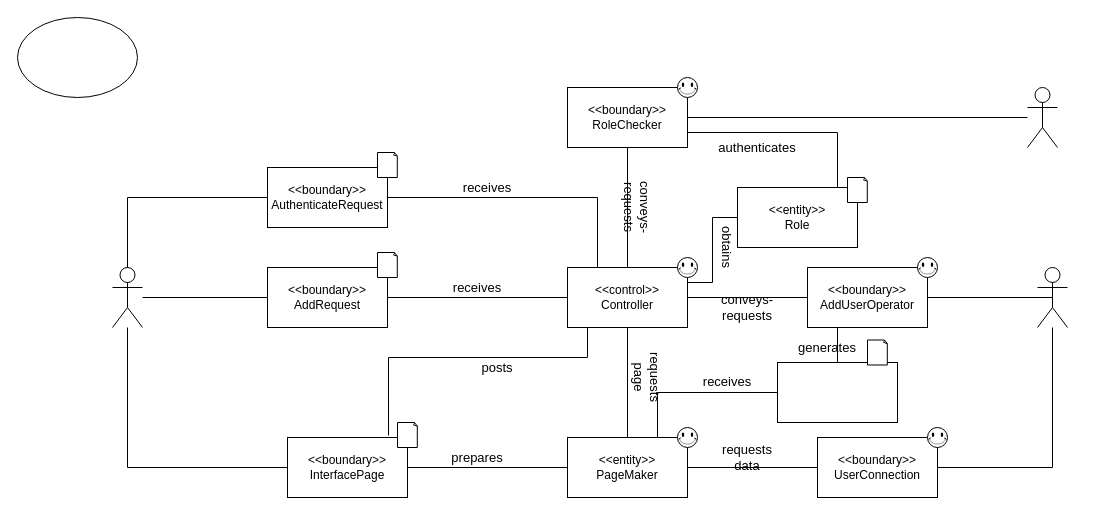
Some shapes in this 1095 by 515 pixel diagram are drawn without their labels. The centre of each missing label's shape, as x and y in pixels:
<<entity>> RedirectRequest: the point at 837,392
Authenticator: the point at 1042,117
Manager: the point at 127,297
UC-7 AddUsers: the point at 77,57
User: the point at 1052,297
